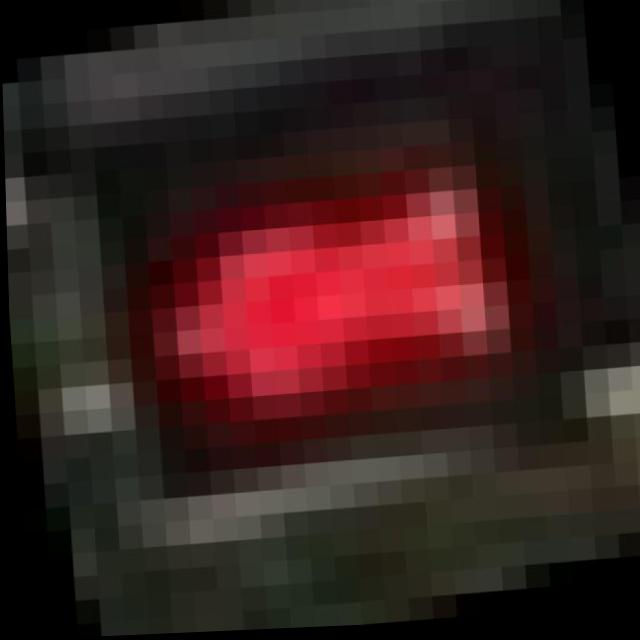red_light: (18, 69, 545, 602)
